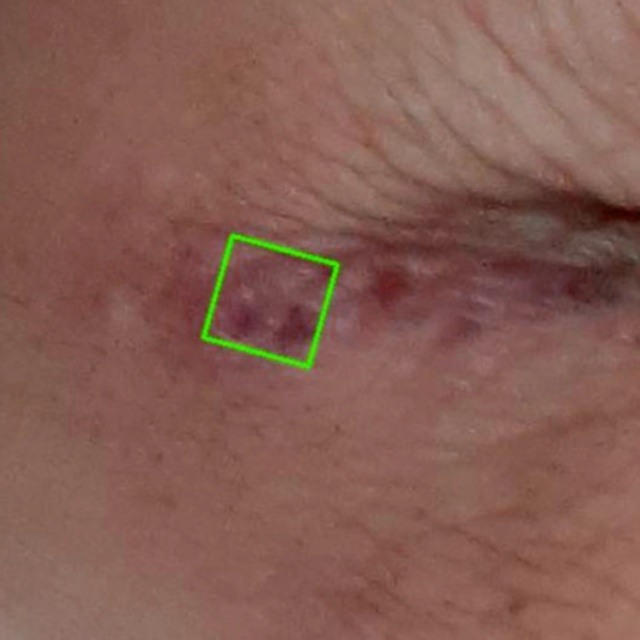Scabies: (204, 234, 337, 365)
